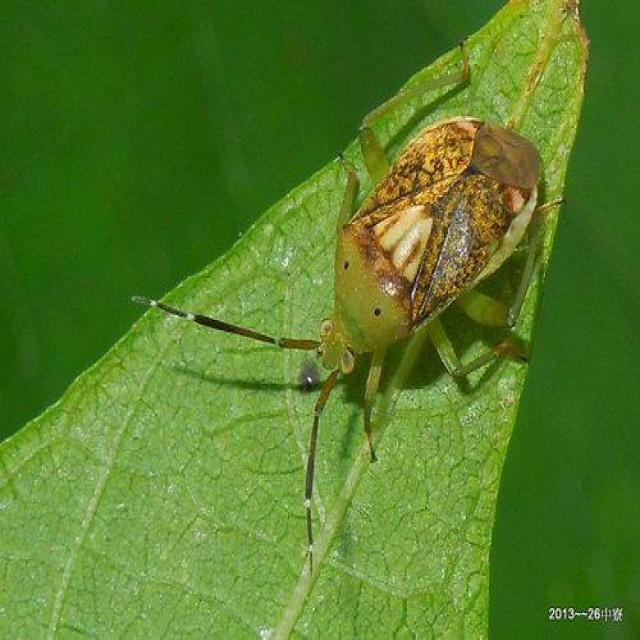Miridae-Adult-: (163, 33, 566, 472)
